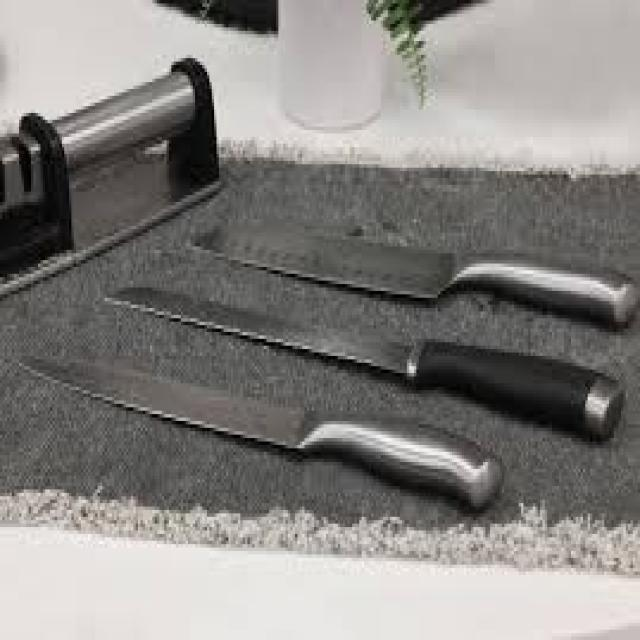knife: (103, 287, 625, 442), (17, 359, 507, 507), (187, 219, 638, 325)
